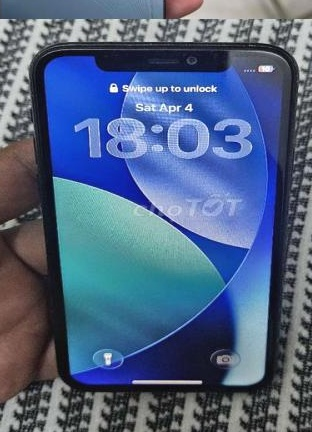physical_damage: (1, 0, 171, 19)
